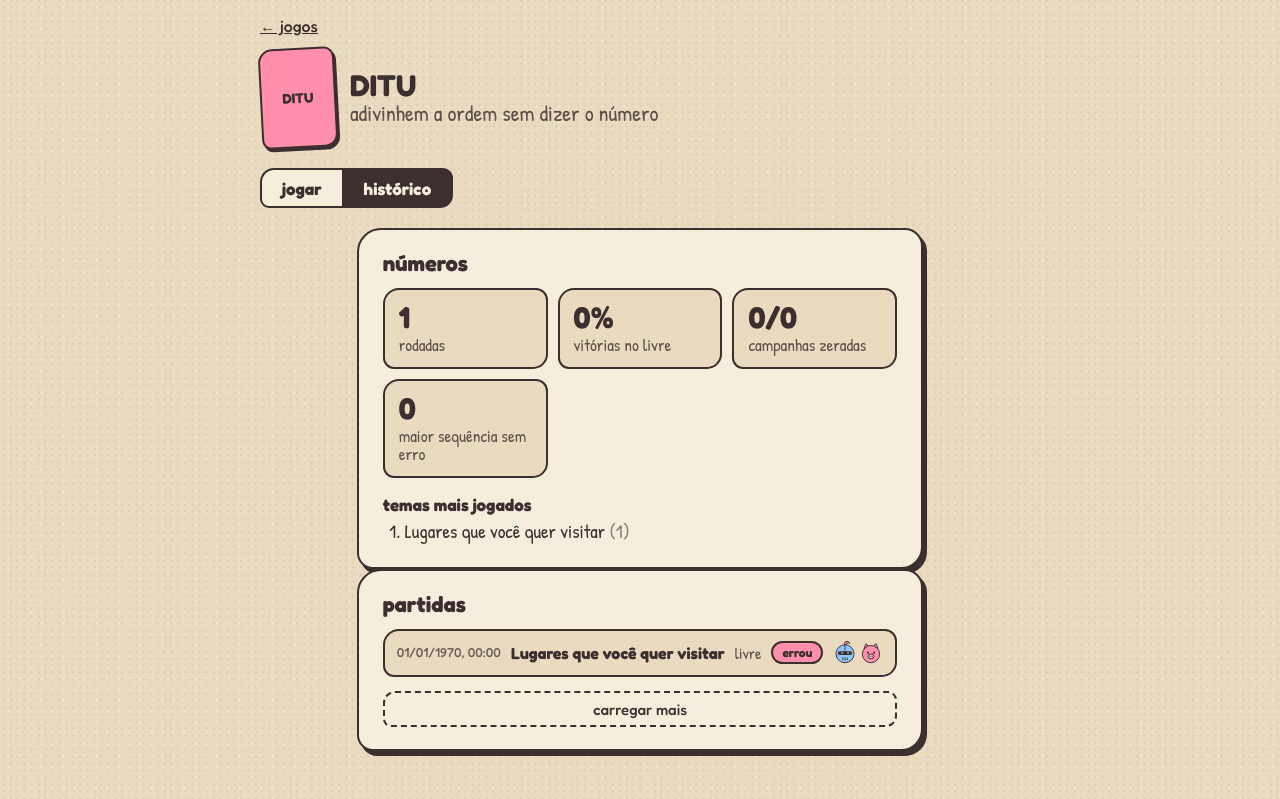
Test case: GamePage › aba histórico › carrega mais partidas com o cursor (páginas seguintes sem estatísticas)
(page scrolled)
Click the button "carregar mais".
click(640, 709)  # box top-left (383, 691), bottom-right (897, 727)
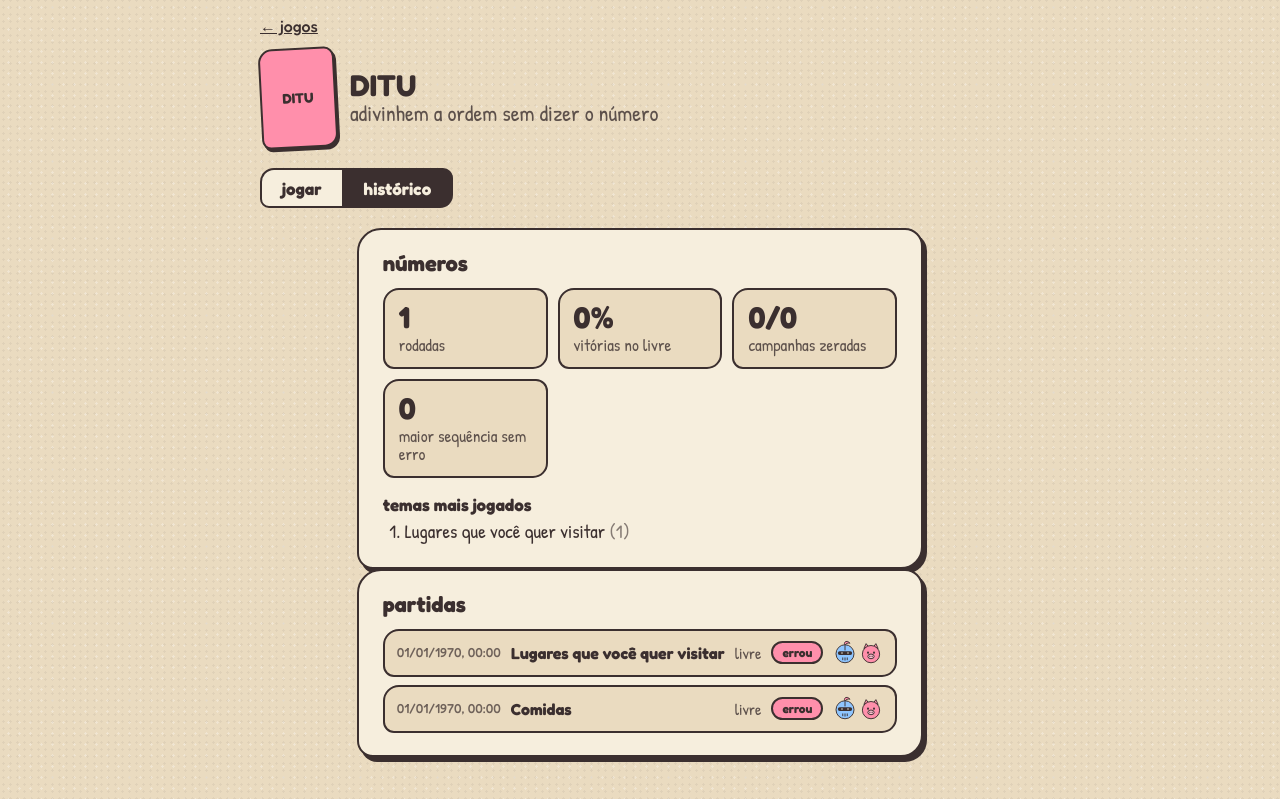
Check: the button "01/01/1970, 00:00 Comidas livre errou" is shown, box top-left (385, 687), bottom-right (895, 731)
Check: the button "carregar mais" is gone
